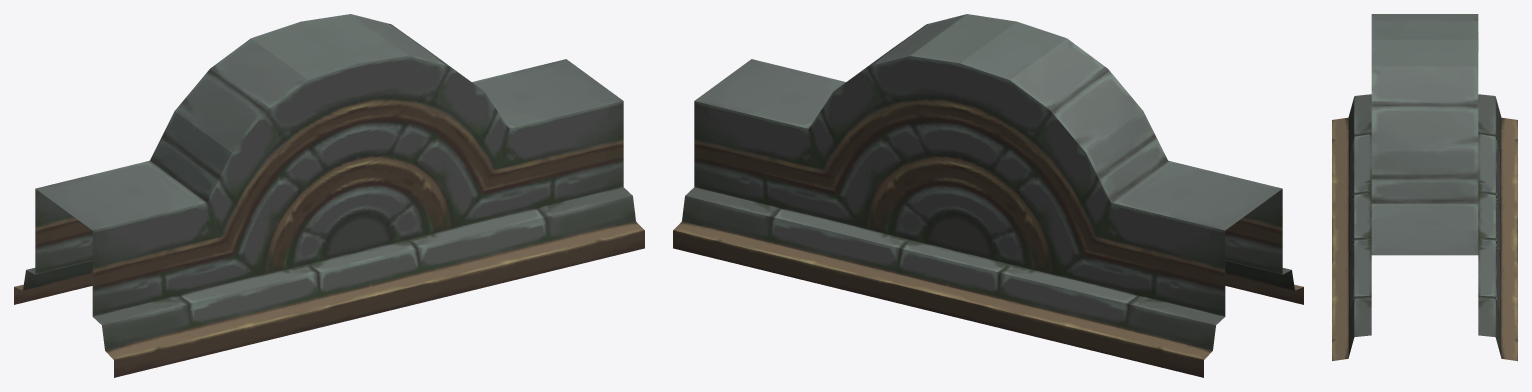
File: yw_shanlin_parapet_001.FBX
The picture shows the model from 3 angles, left to right: view 1: azimuth 30°, elevation 25°; view 2: azimuth 150°, elevation 25°; view 3: azimuth 270°, elevation 25°; orthographic projection. The views are drawn at different scales.
Parts seen in each view (by area): view 1: yw_shanlin_parapet_001; view 2: yw_shanlin_parapet_001; view 3: yw_shanlin_parapet_001.
Boxes of the visible parts, x1,y1,x2,y2 form: yw_shanlin_parapet_001: [14, 14, 644, 377]; yw_shanlin_parapet_001: [673, 14, 1303, 377]; yw_shanlin_parapet_001: [1332, 14, 1517, 360].
Bounding box in the file's own units: 488 × 159 × 206.
